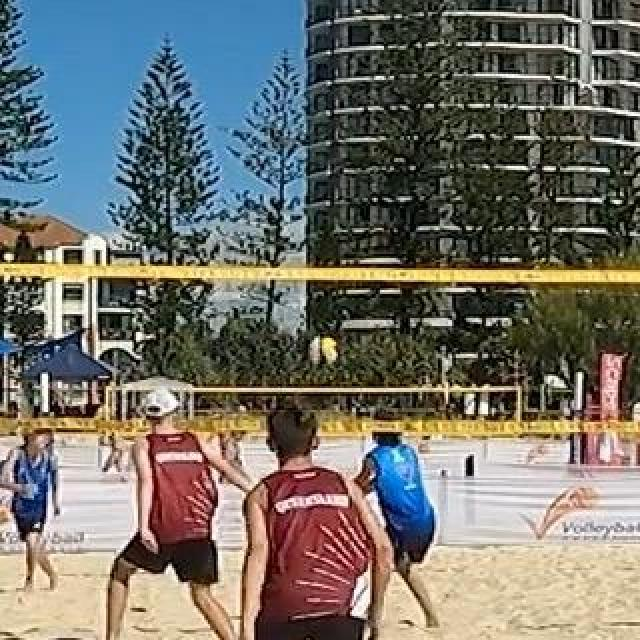volleyball: (309, 337, 337, 367)
